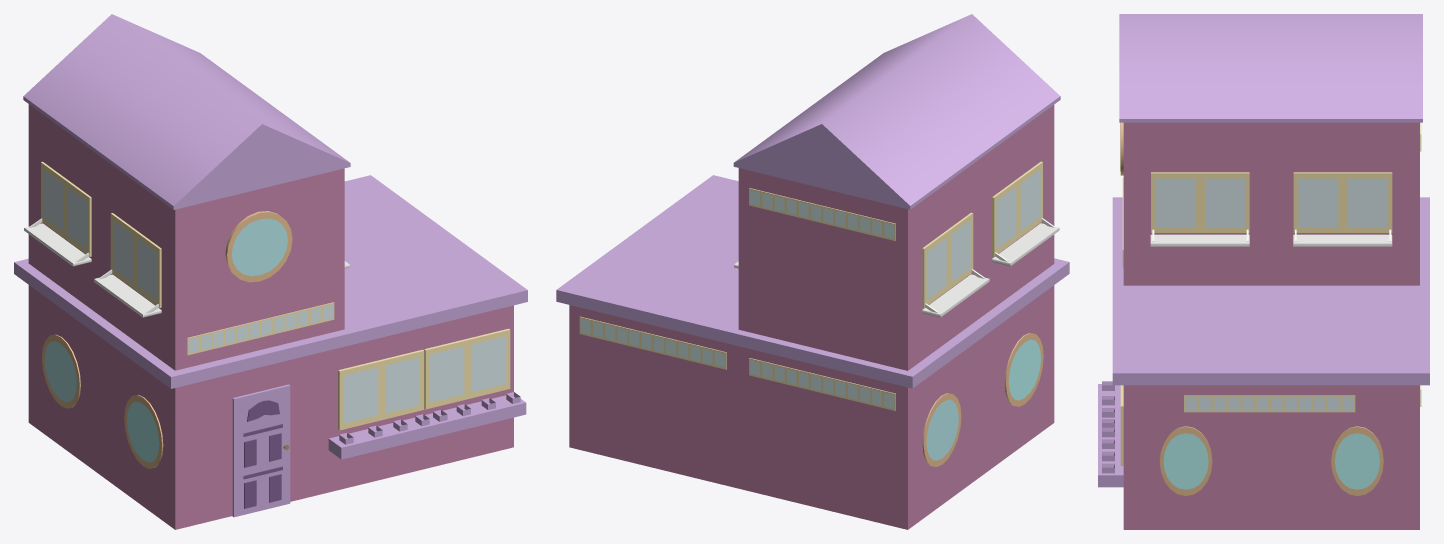
File: House_04.fbx
3 views of the same model, side by side, from view 1: azimuth 30°, elevation 25°; view 2: azimuth 150°, elevation 25°; view 3: azimuth 270°, elevation 25° (orthographic).
Visible parts, largest first — view 1: pCube69, pCube70, pCube71, pCube72, polySurface10 (×4), polySurface7 (×4), polySurface13 (×3), pCube44, pCube73, polySurface11 (×3), Window39, pCube52 (+1 smaller); view 2: pCube69, pCube70, pCube71, pCube72, polySurface10 (×2), polySurface13 (×2), polySurface7 (×2), Window44, Window43, Window42, pCube40 (×2), polySurface11 (×2); view 3: pCube70, pCube69, pCube72, pCube71, polySurface10 (×2), polySurface7 (×2), polySurface13 (×2), Window47, pCube40 (×2), polySurface11 (×2), pCube73.
Boxes of the visible parts, <box> form: pCube69: <box>28,285,513,529</box>; pCube70: <box>28,104,344,370</box>; pCube71: <box>23,14,350,209</box>; pCube72: <box>14,175,527,388</box>; polySurface10 (×4): <box>43,169,506,423</box>; polySurface7 (×4): <box>41,161,510,430</box>; polySurface13 (×3): <box>44,218,287,462</box>; pCube44: <box>232,384,290,517</box>; pCube73: <box>328,395,526,459</box>; polySurface11 (×3): <box>42,211,292,468</box>; Window39: <box>187,302,334,355</box>; pCube52: <box>243,400,282,508</box>; pCube69: <box>569,285,1054,529</box>; pCube70: <box>738,105,1054,370</box>; pCube71: <box>733,14,1060,209</box>; pCube72: <box>556,175,1069,388</box>; polySurface10 (×2): <box>926,169,1040,299</box>; polySurface13 (×2): <box>926,339,1040,460</box>; polySurface7 (×2): <box>922,161,1042,307</box>; Window44: <box>579,316,726,369</box>; Window43: <box>749,358,895,410</box>; Window42: <box>749,188,895,240</box>; pCube40 (×2): <box>922,223,1059,317</box>; polySurface11 (×2): <box>922,333,1043,466</box>; pCube70: <box>1123,122,1419,285</box>; pCube69: <box>1123,385,1419,529</box>; pCube72: <box>1112,197,1429,385</box>; pCube71: <box>1119,14,1422,122</box>; polySurface10 (×2): <box>1156,178,1387,226</box>; polySurface7 (×2): <box>1151,172,1392,232</box>; polySurface13 (×2): <box>1163,433,1379,489</box>; Window47: <box>1184,395,1355,412</box>; pCube40 (×2): <box>1150,234,1392,246</box>; polySurface11 (×2): <box>1159,426,1383,495</box>; pCube73: <box>1098,384,1123,487</box>.
Bounding box in the file's own units: 648 × 655 × 504.
